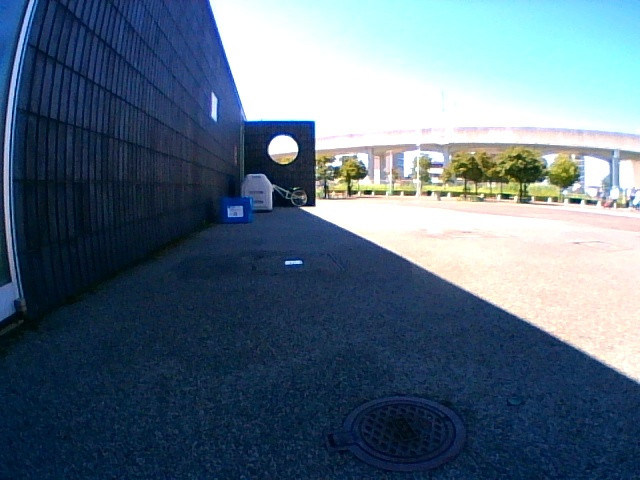blue_box: (220, 197, 252, 224)
tag: (227, 205, 243, 217)
